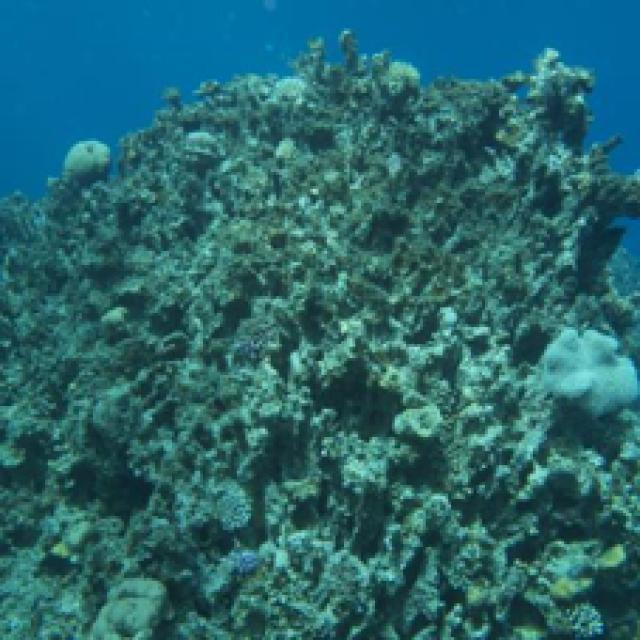Dead Coral: (21, 57, 498, 638), (319, 410, 600, 640), (508, 65, 599, 296), (525, 319, 640, 427)
